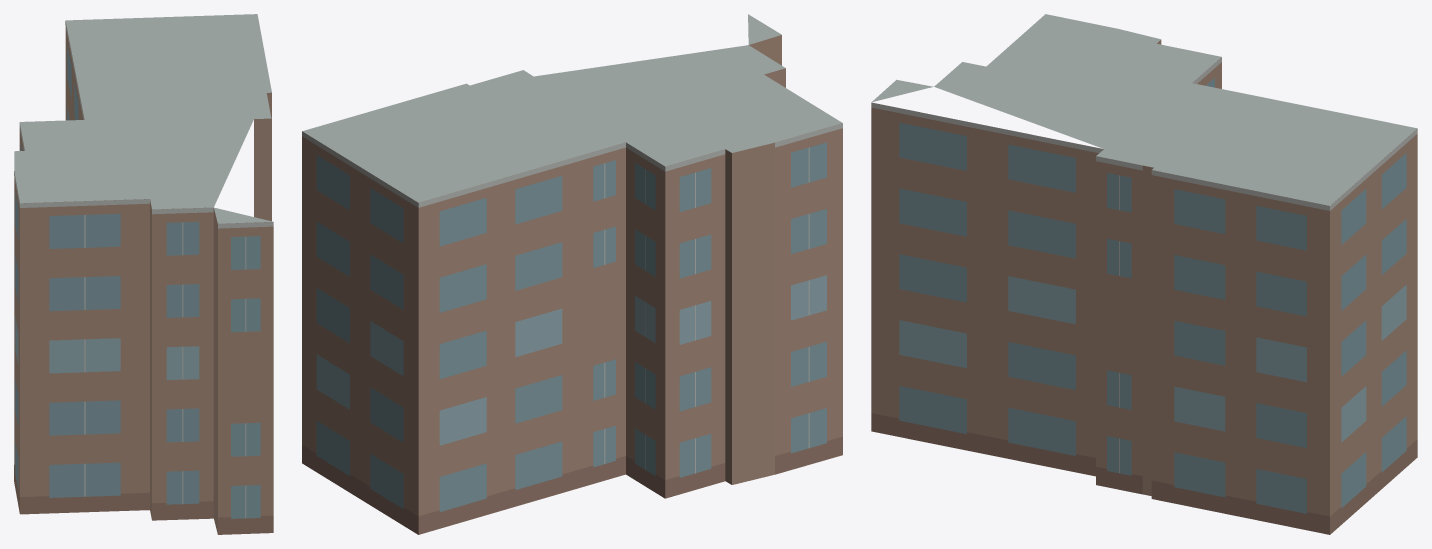
The model's file is survey-upis-32905021.glb.
The picture shows the model from 3 angles, left to right: view 1: azimuth 30°, elevation 25°; view 2: azimuth 150°, elevation 25°; view 3: azimuth 270°, elevation 25°; orthographic projection. The views are drawn at different scales.
Visible parts, largest first — view 1: survey-upis-32905021.tmp; view 2: survey-upis-32905021.tmp; view 3: survey-upis-32905021.tmp.
Boxes of the visible parts, bbox=[...] form: survey-upis-32905021.tmp: bbox=[14, 14, 273, 534]; survey-upis-32905021.tmp: bbox=[302, 14, 842, 534]; survey-upis-32905021.tmp: bbox=[871, 14, 1417, 534].
Bounding box in the file's own units: 19.78 × 15.8 × 23.8.
